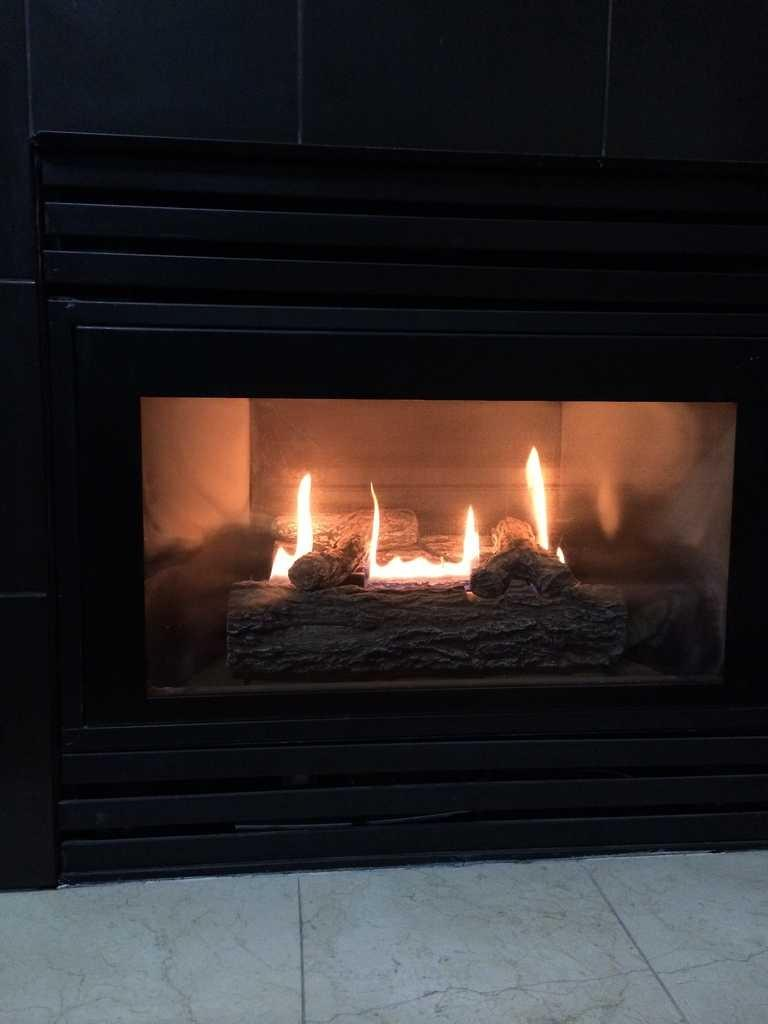fire: (289, 476, 320, 558), (369, 558, 465, 581), (529, 456, 549, 533), (462, 516, 482, 570)
